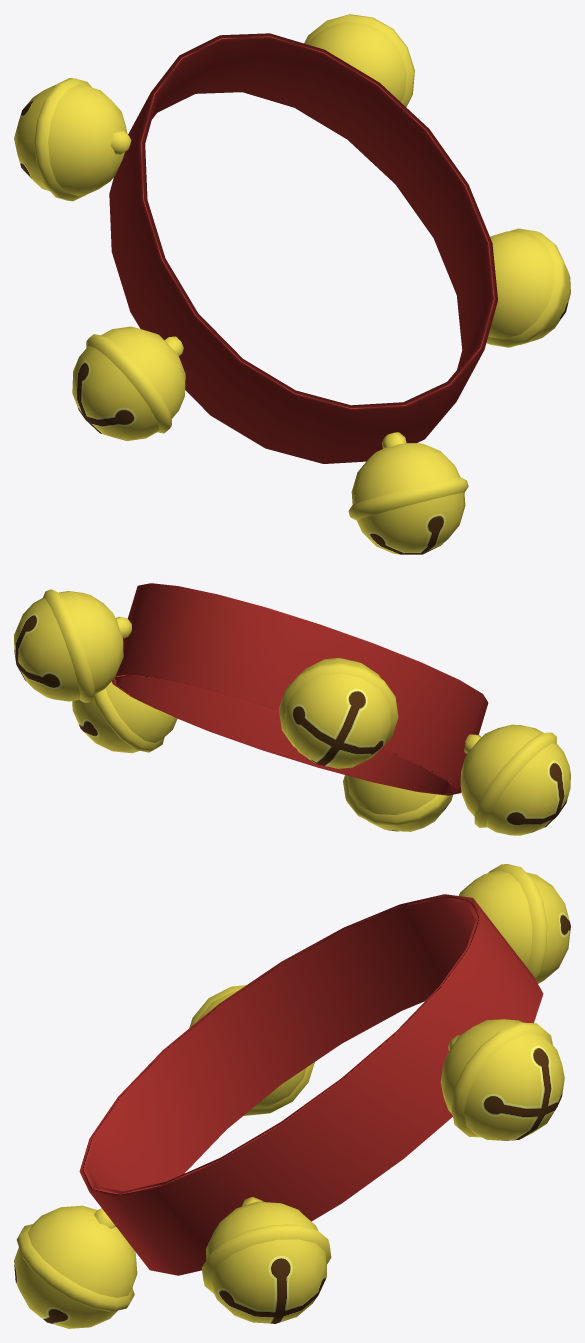
Rendered from bell_pm0234_00_odoshishi.fbx.
The picture shows the model from 3 angles, top to bottom: view 1: azimuth 30°, elevation 25°; view 2: azimuth 150°, elevation 25°; view 3: azimuth 270°, elevation 25°; orthographic projection. The views are drawn at different scales.
Visible parts, largest first — view 1: bell_pm0234_00_odoshishi; view 2: bell_pm0234_00_odoshishi; view 3: bell_pm0234_00_odoshishi.
Boxes of the visible parts, x1=… form: bell_pm0234_00_odoshishi: x1=14, y1=14, x2=570, y2=554; bell_pm0234_00_odoshishi: x1=14, y1=583, x2=570, y2=835; bell_pm0234_00_odoshishi: x1=14, y1=864, x2=570, y2=1328.
Bounding box in the file's own units: 0.4058 × 0.2981 × 0.3691.
2 materials, 2 textured.
